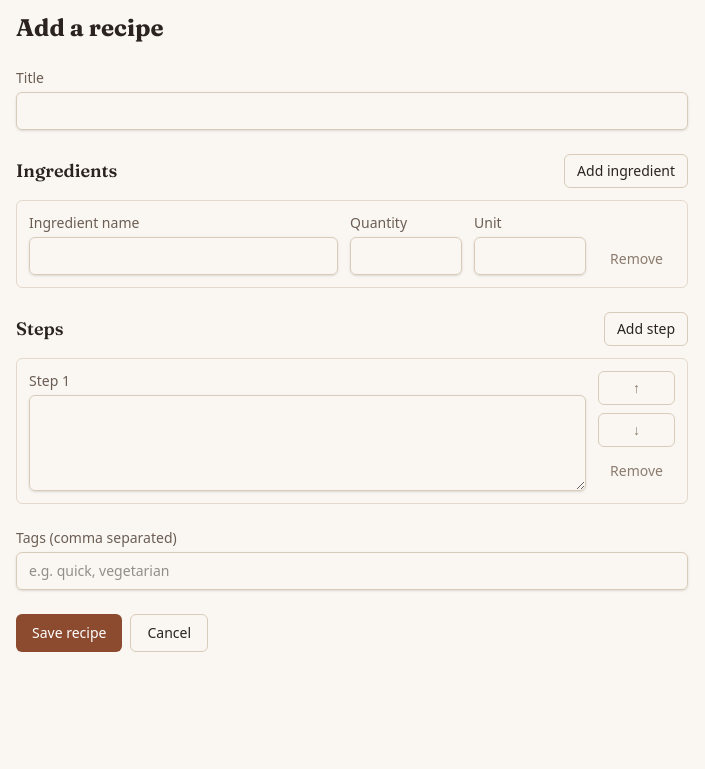
Test: RecipeForm — create (AC1) › blocks submission and shows field errors for a missing title, no ingredient, a non-numeric quantity, and no steps (AC5)
Type "four" into the field labelled "Quantity" at (406, 256), box left=350, top=237, right=462, bottom=275
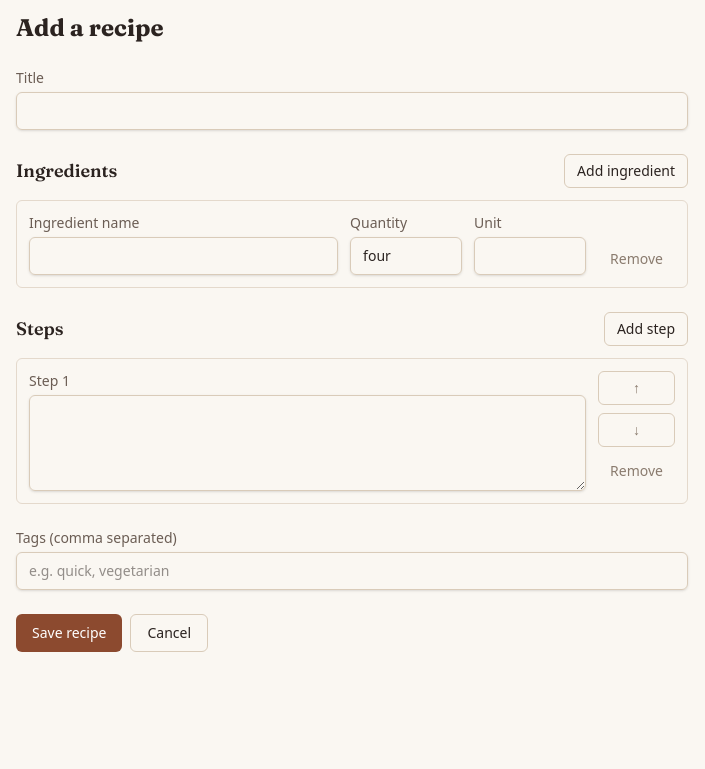
Click the button "Save recipe" at (69, 633), box left=16, top=614, right=122, bottom=652
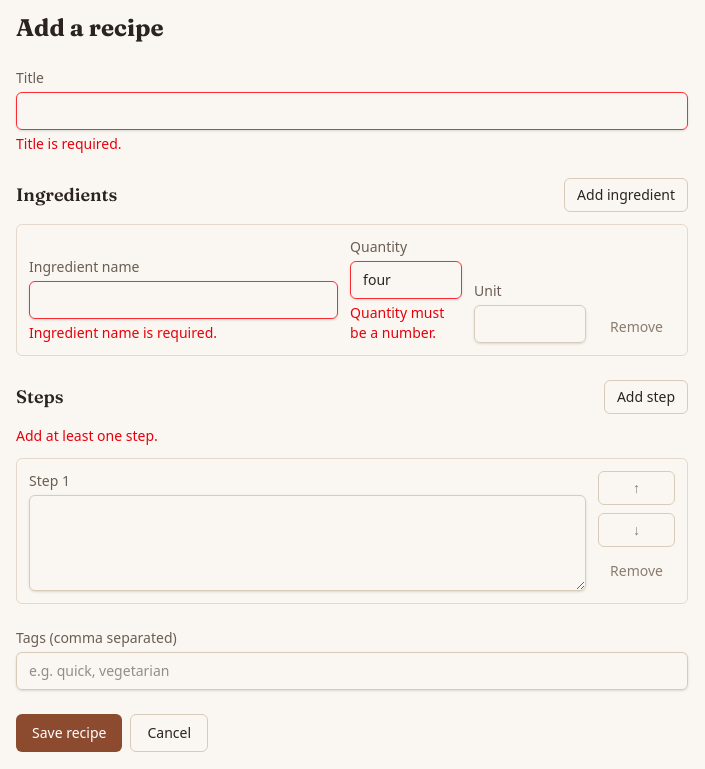
Result: the text "Title is required." is shown at left=16, top=134, right=122, bottom=153
Result: the text "Ingredient name is required." is shown at left=29, top=323, right=217, bottom=342
Result: the text "Quantity must be a number." is shown at left=350, top=303, right=444, bottom=342
